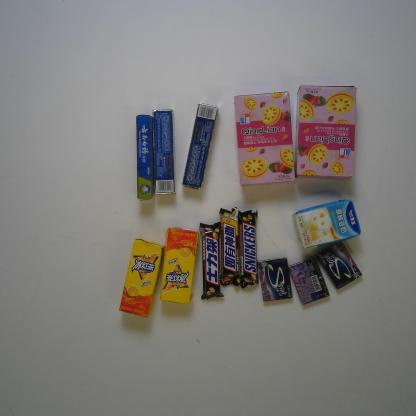Chocolate: (198, 221, 225, 295), (219, 206, 242, 286), (238, 208, 260, 288)
Dessert: (294, 83, 357, 181), (233, 91, 296, 186)
Drink: (117, 238, 166, 318), (160, 226, 199, 304)
Gum: (317, 244, 364, 290), (288, 259, 331, 306), (257, 257, 294, 302)
Milk: (293, 200, 360, 247)
Personal Hygiene: (183, 102, 219, 192), (134, 113, 156, 201), (152, 108, 174, 195)
